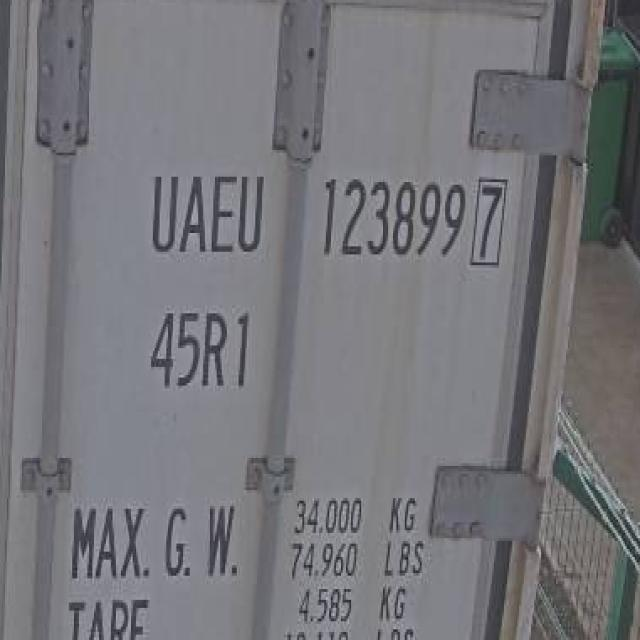dv: (471, 170, 513, 275)
owner: (148, 163, 268, 267)
serial: (318, 162, 466, 275)
size: (143, 297, 256, 402)
